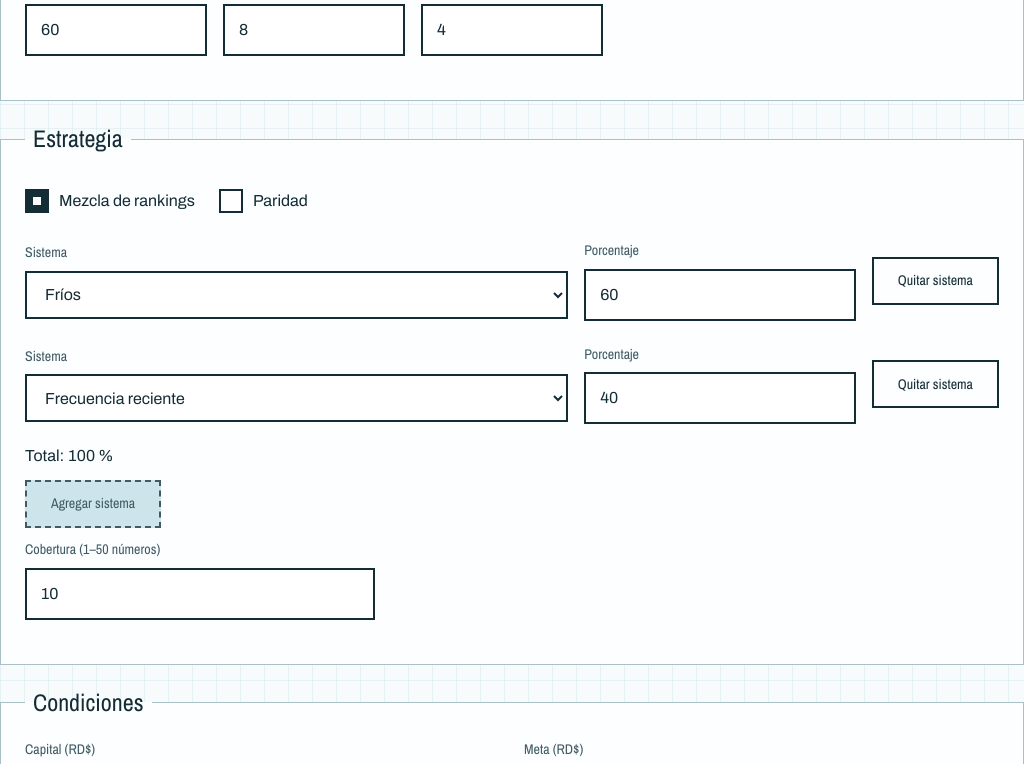
Test: new run under Leidsa › does not offer an unavailable system as the next mix component
The width and height of the screenshot is (1024, 764).
(page scrolled)
Expected: the dropdown named "Sistema 1" is shown, [25,270,568,318]
Expected: the button "Agregar sistema" is disabled, [25,480,161,528]
Click the 2nd button "Quitar sistema": (935, 384) [872,360,999,408]
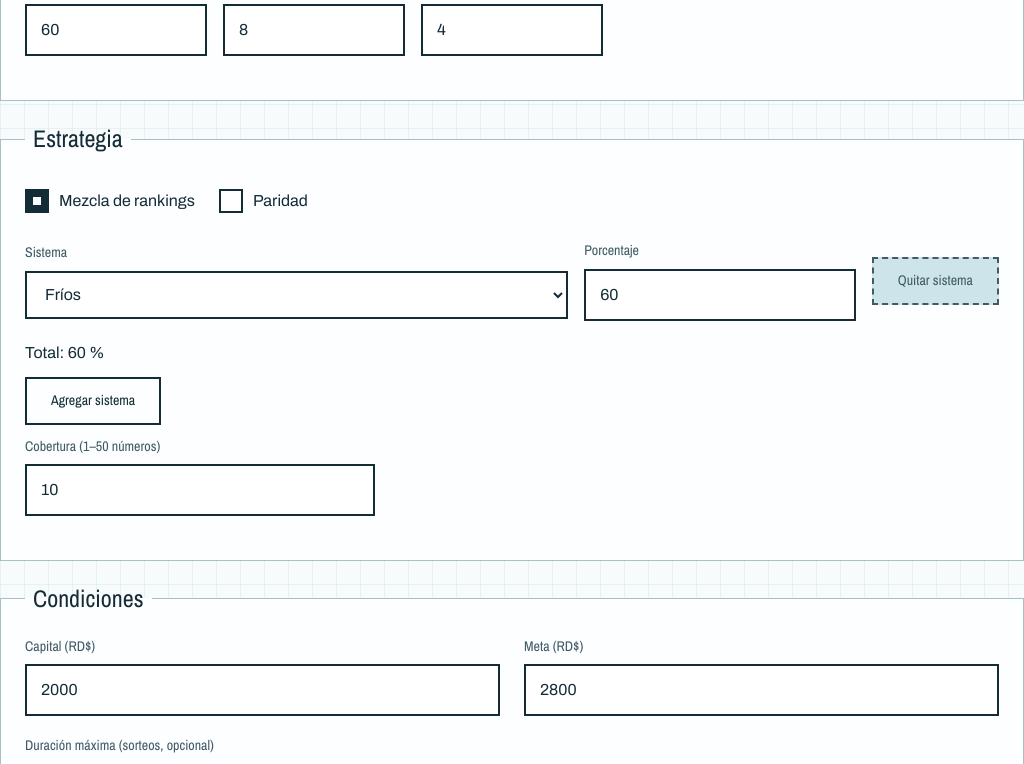
Result: the button "Agregar sistema" is enabled at [25,376,161,424]
